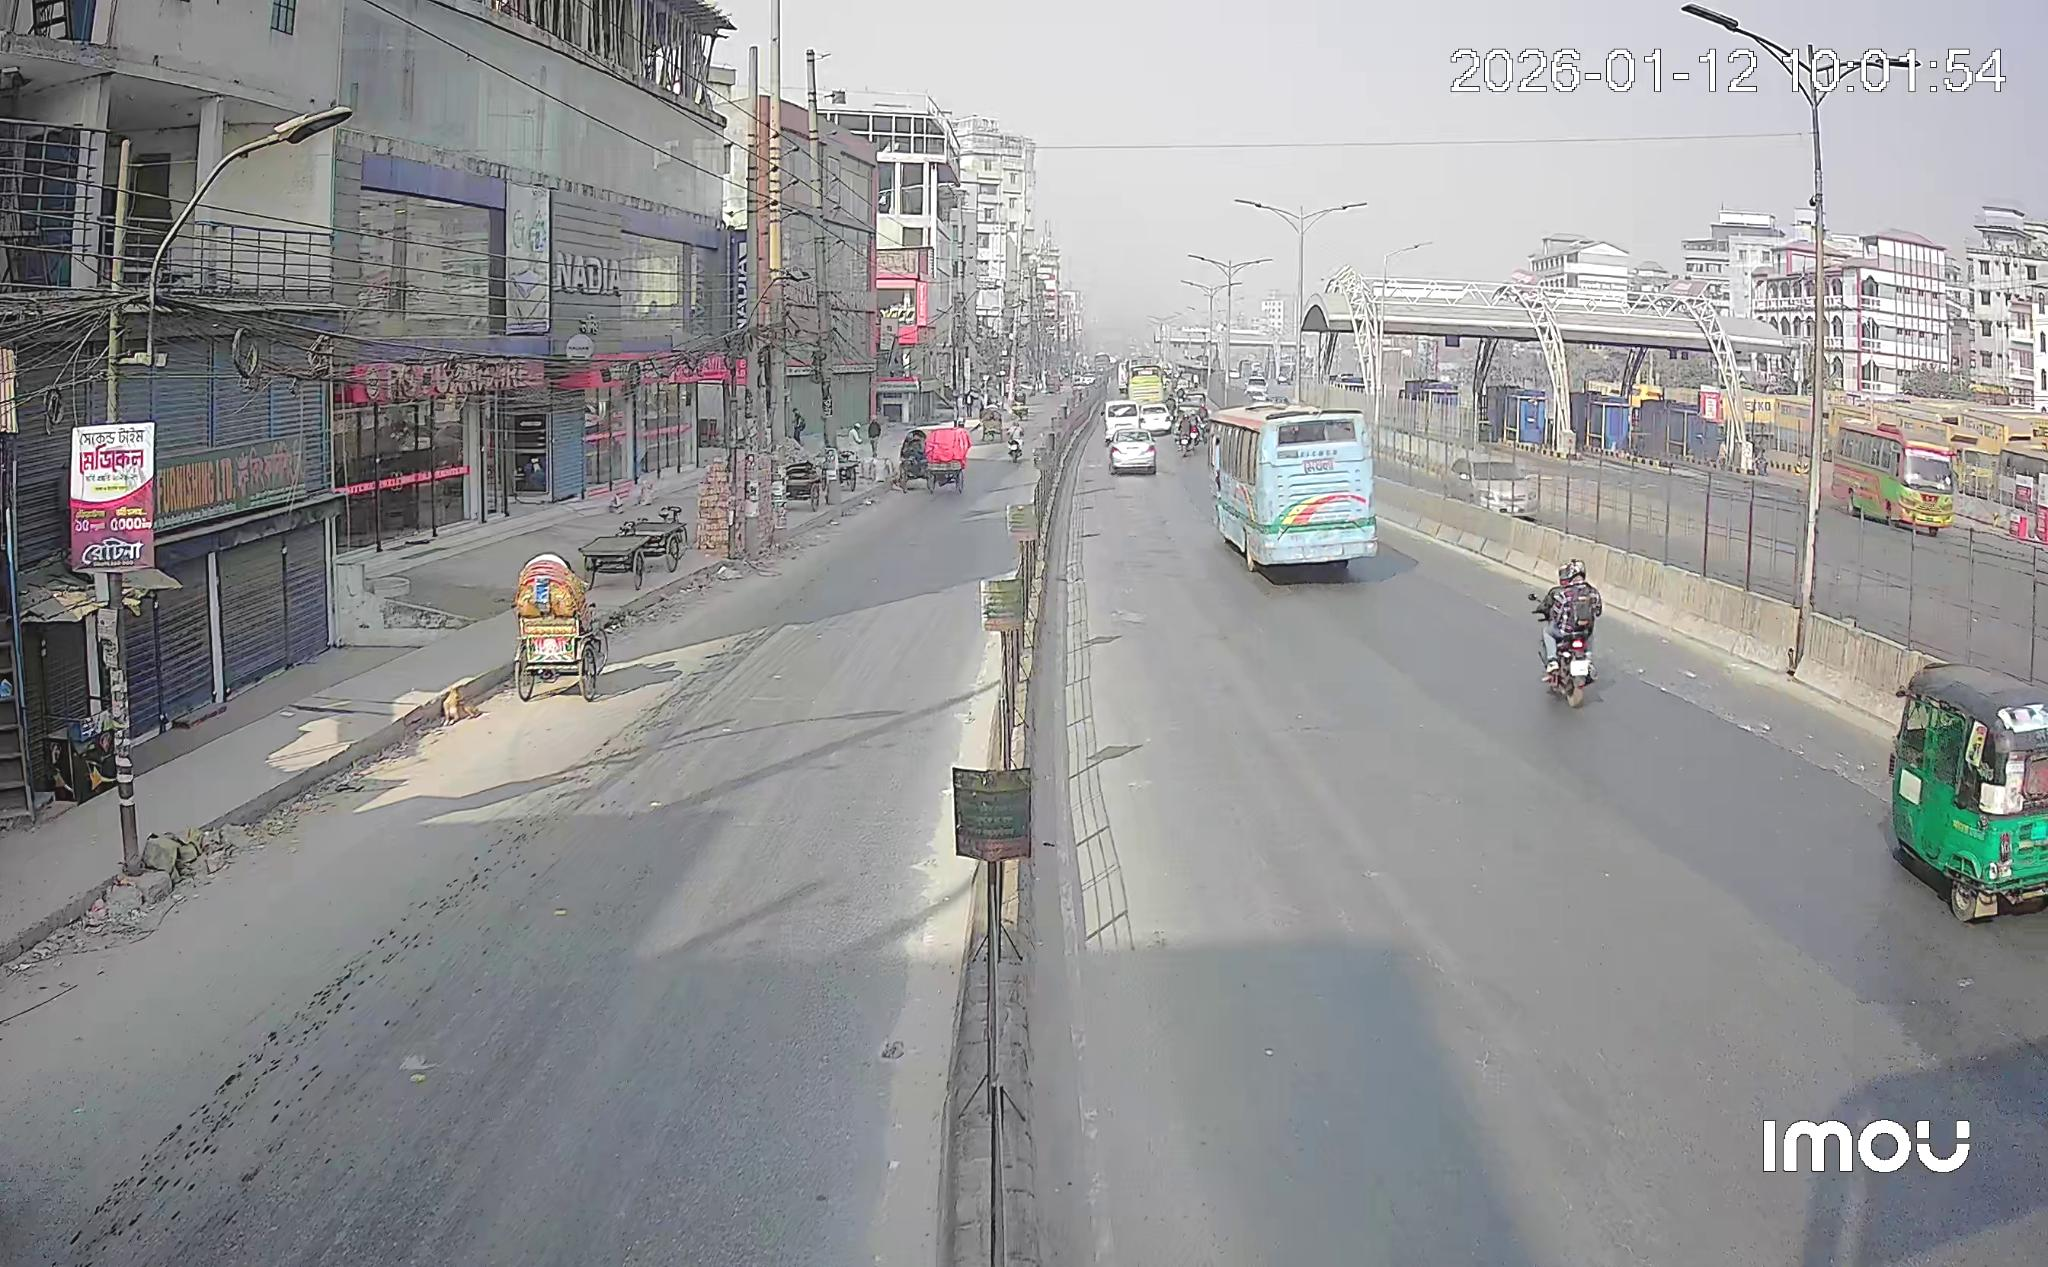Bus: (1207, 405, 1378, 572), (1830, 420, 1954, 534)
CNG-Tempo: (1889, 664, 2047, 923)
Cycle Rickshaw: (512, 553, 607, 701)
Motorcycle: (1527, 557, 1603, 699)
Private-Sedan Car: (1451, 459, 1537, 516), (1109, 427, 1156, 474)
